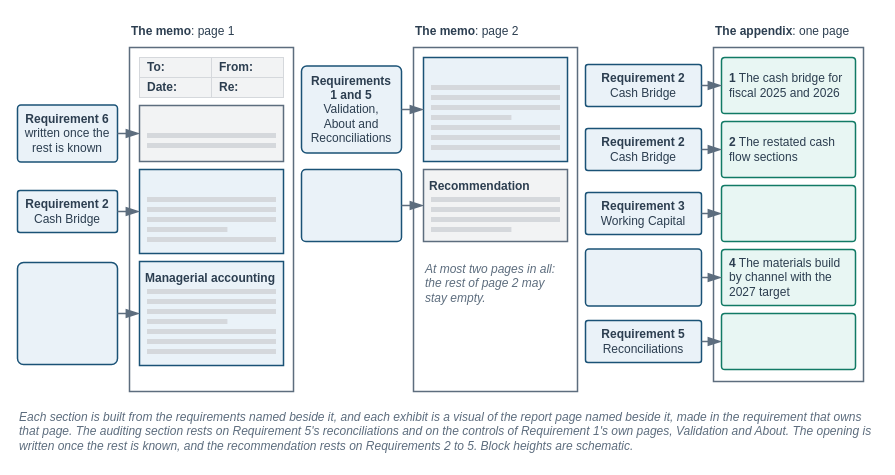
Image size: 895x475. Some labels were removed from this diagram. Each missing label, with the box of its shape:
3 The working-capital measures by quarter: (720, 184, 856, 242)
5 The findings with their dispositions: (720, 312, 856, 370)
Auditing: (422, 56, 568, 162)
Financial reporting: (138, 168, 284, 254)
Opening paragraph: (138, 104, 284, 162)
Requirement 4 Materials Build and Materials Target: (584, 248, 702, 306)
Requirements 2 to 5 the evidence of the sections: (300, 168, 402, 242)
Requirements 3 and 4 Working Capital, Materials Build and Materials Target: (16, 261, 118, 365)
